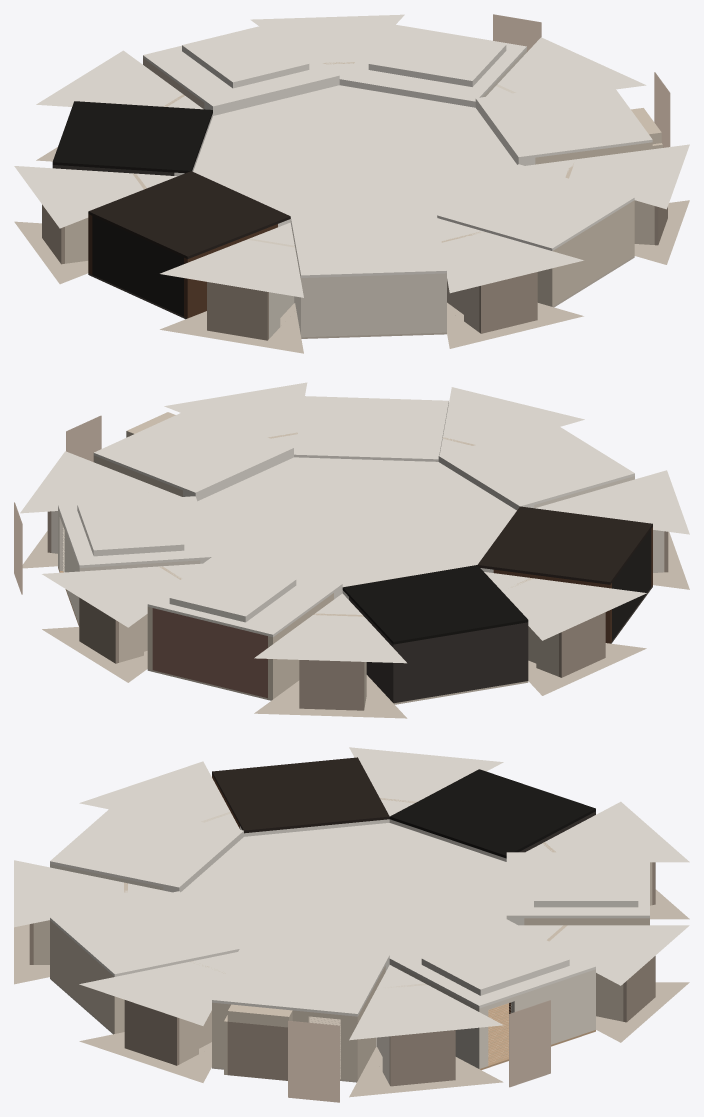
The picture shows the model from 3 angles, top to bottom: view 1: azimuth 30°, elevation 25°; view 2: azimuth 150°, elevation 25°; view 3: azimuth 270°, elevation 25°; orthographic projection. The views are drawn at different scales.
Visible parts, largest first — view 1: plafon aula, plafon.012, plafon.010, plafon.009, plafon.013, plafon.011, dinding belakang.007, plafon baji.011, dinding belakang.008, plafon baji.010, cerukan plafon.003, plafon baji.009 (+26 smaller); view 2: plafon aula, plafon.009, plafon.011, plafon.013, plafon.012, plafon.010, dinding belakang.009, dinding belakang.005, plafon baji.013, plafon baji.012, cerukan plafon.003, plafon.007 (+27 smaller); view 3: plafon aula, plafon.013, plafon.011, plafon.010, plafon.009, plafon.012, plafon baji.008, cerukan plafon.003, plafon baji.009, plafon baji.010, plafon baji.007, plafon.007 (+28 smaller).
Part boxes in pixels (bbox=[...]): plafon aula: bbox=[193, 85, 516, 216]; plafon.012: bbox=[88, 171, 290, 258]; plafon.010: bbox=[437, 164, 634, 250]; plafon.009: bbox=[475, 80, 652, 159]; plafon.013: bbox=[52, 101, 212, 173]; plafon.011: bbox=[290, 211, 446, 277]; dinding belakang.007: bbox=[307, 273, 440, 336]; plafon baji.011: bbox=[160, 222, 303, 297]; dinding belakang.008: bbox=[92, 216, 183, 316]; plafon baji.010: bbox=[437, 218, 583, 293]; cerukan plafon.003: bbox=[368, 27, 506, 86]; plafon baji.009: bbox=[526, 144, 689, 209]; plafon aula: bbox=[197, 457, 516, 587]; plafon.009: bbox=[93, 408, 293, 495]; plafon.011: bbox=[438, 423, 634, 507]; plafon.013: bbox=[342, 565, 528, 644]; plafon.012: bbox=[477, 506, 652, 584]; plafon.010: bbox=[294, 396, 448, 461]; dinding belakang.009: bbox=[398, 623, 522, 702]; dinding belakang.005: bbox=[152, 608, 267, 698]; plafon baji.013: bbox=[254, 593, 406, 663]; plafon baji.012: bbox=[484, 572, 646, 640]; cerukan plafon.003: bbox=[77, 498, 184, 556]; plafon.007: bbox=[147, 553, 342, 637]; plafon aula: bbox=[181, 823, 506, 958]; plafon.013: bbox=[389, 769, 595, 858]; plafon.011: bbox=[50, 804, 243, 889]; plafon.010: bbox=[50, 891, 241, 976]; plafon.009: bbox=[212, 941, 389, 1016]; plafon.012: bbox=[212, 757, 389, 833]; plafon baji.008: bbox=[349, 965, 503, 1040]; cerukan plafon.003: bbox=[421, 928, 569, 995]; plafon baji.009: bbox=[79, 952, 237, 1025]; plafon baji.010: bbox=[14, 860, 171, 927]; plafon baji.007: bbox=[519, 925, 689, 985]; plafon.007: bbox=[506, 852, 649, 918].
Bounding box in the file's own units: 35.49 × 4.3 × 34.38.
